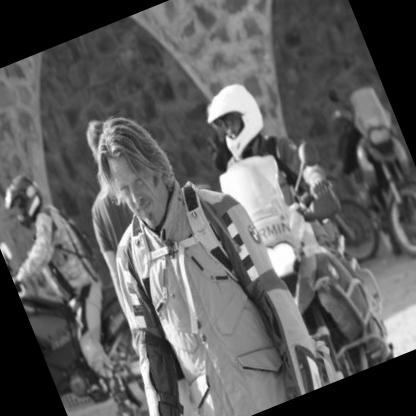moto: (317, 78, 416, 261)
